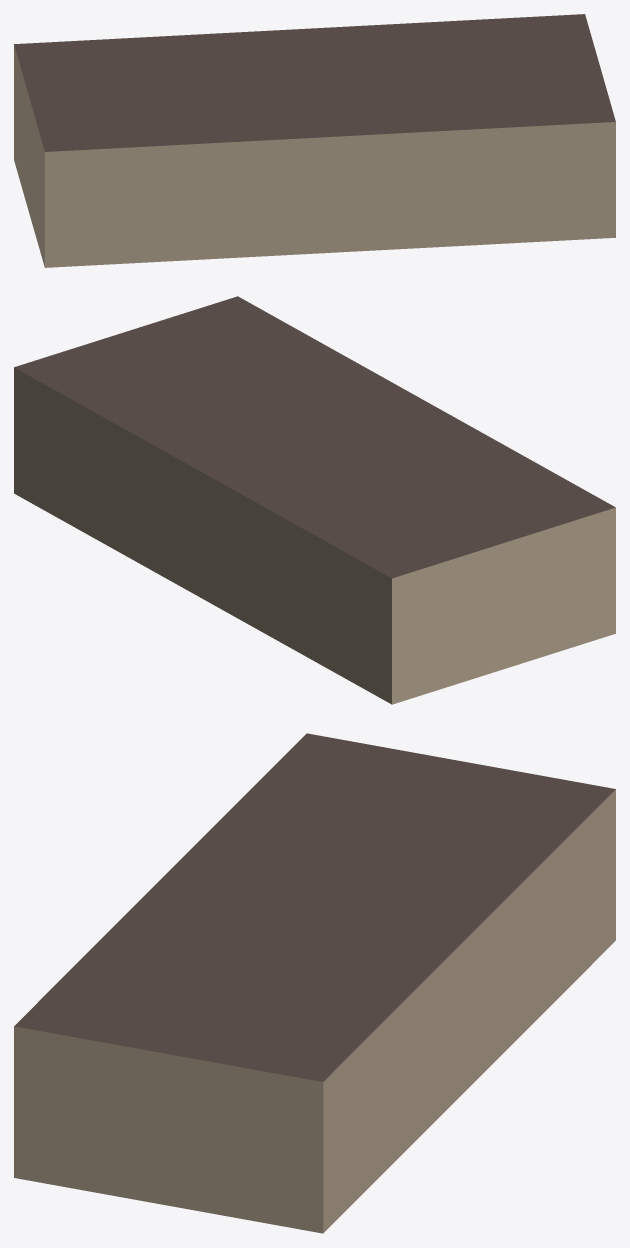
3 renders of one model, top to bottom at view 1: azimuth 30°, elevation 25°; view 2: azimuth 150°, elevation 25°; view 3: azimuth 270°, elevation 25°, orthographic. The views are drawn at different scales.
Visible parts, largest first — view 1: HP-w1286966215; view 2: HP-w1286966215; view 3: HP-w1286966215.
Part boxes in pixels (x1=…): HP-w1286966215: x1=14, y1=14, x2=615, y2=267; HP-w1286966215: x1=14, y1=296, x2=615, y2=704; HP-w1286966215: x1=14, y1=733, x2=615, y2=1233.
Size of the model in its own units: 44.41 by 9 by 32.4.
